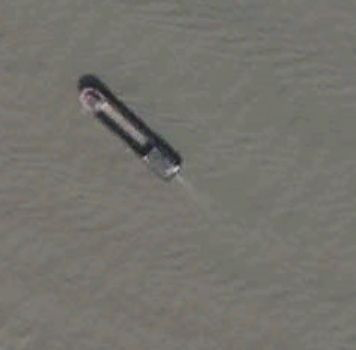boat: (75, 84, 184, 184)
